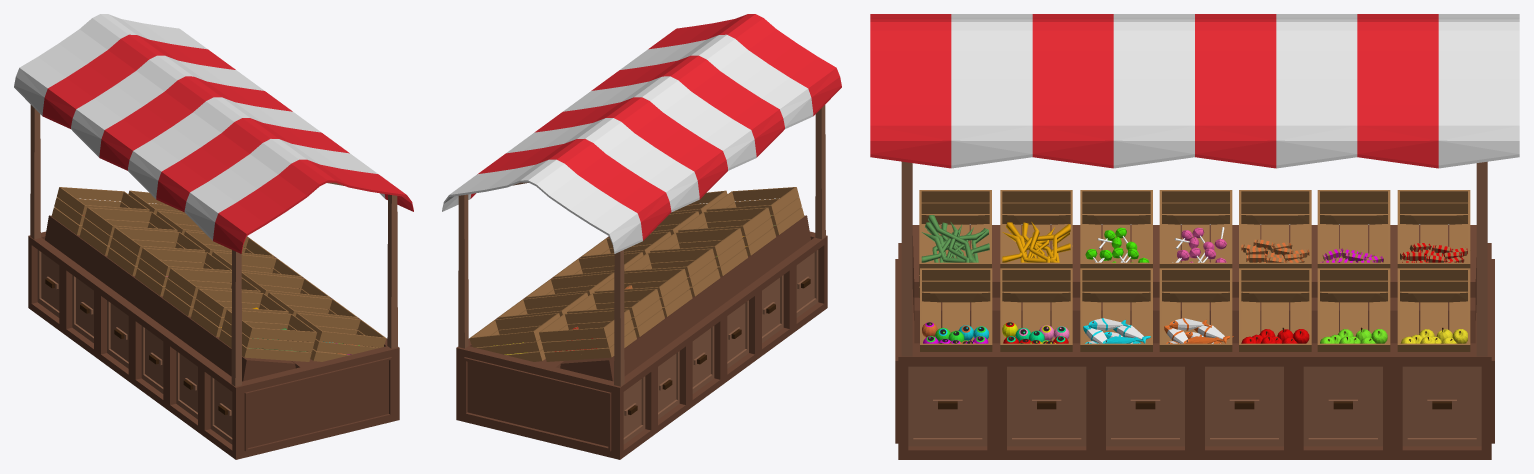
The model's file is IngredientStandRed.fbx.
The picture shows the model from 3 angles, left to right: view 1: azimuth 30°, elevation 25°; view 2: azimuth 150°, elevation 25°; view 3: azimuth 270°, elevation 25°; orthographic projection. The views are drawn at different scales.
Visible parts, largest first — view 1: IngredientStand; view 2: IngredientStand; view 3: IngredientStand.
Part boxes in pixels (bbox=[...]): IngredientStand: bbox=[14, 14, 413, 459]; IngredientStand: bbox=[442, 14, 841, 459]; IngredientStand: bbox=[870, 14, 1519, 459].
Size of the model in its own units: 720 by 1065 by 1645.
